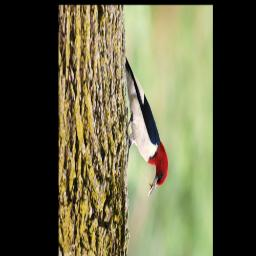Woodpecker: (126, 58, 169, 195)
